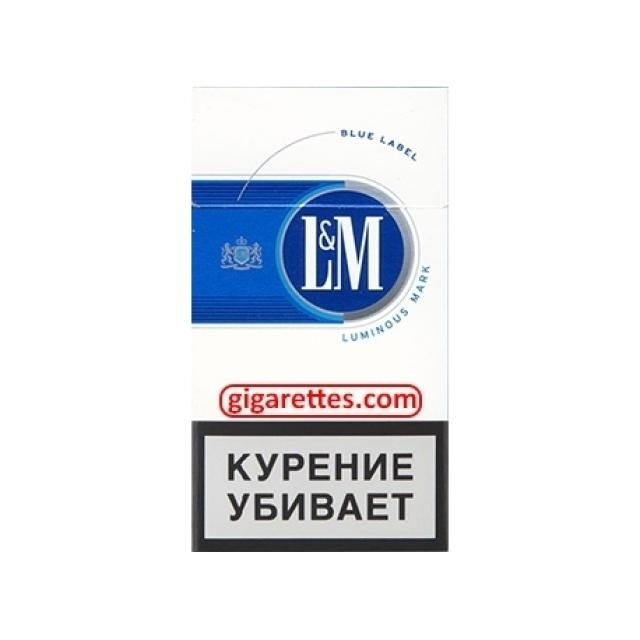lm: (157, 84, 468, 568)
